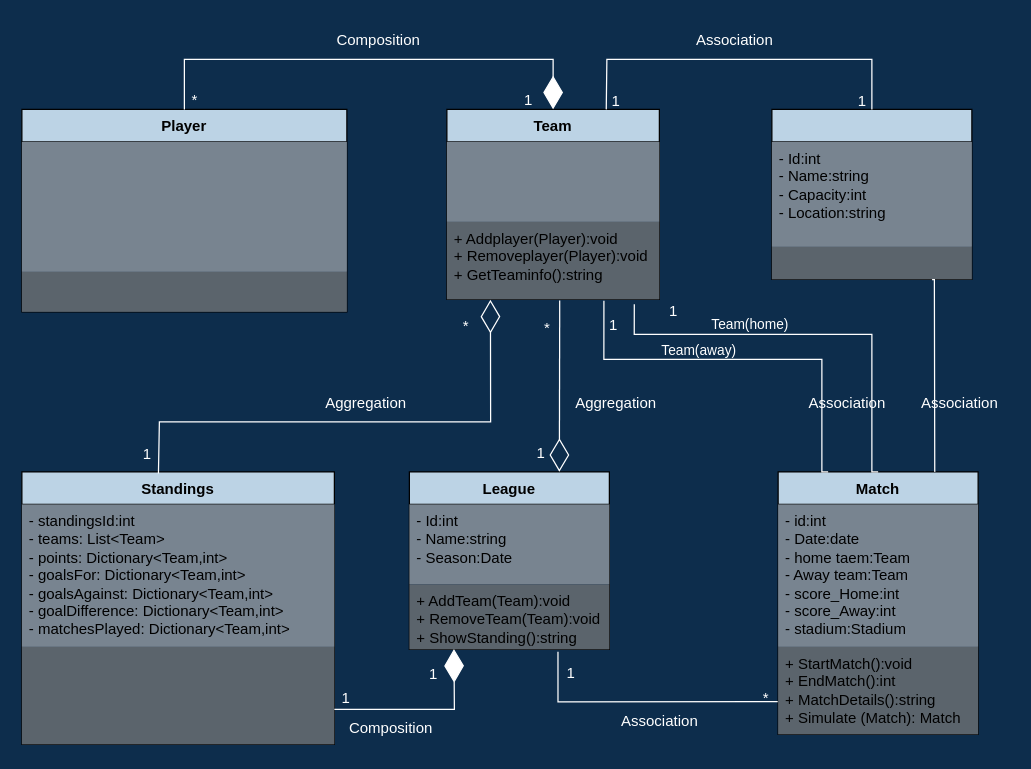
This 1031x769 diagram has some shape labels left out. Here are the shapes that lost their labels. From the top down, the box of each, then its label:
(446, 141, 659, 221): - Id:int - name:string - coach:string
(771, 108, 972, 279): Staduim
(21, 141, 346, 271): - Id:int - name:string - age:int - position:string - number:int - teamId:int
(771, 246, 971, 279): + GetInfo():string
(21, 271, 346, 311): + GetInfo(): string
(21, 646, 334, 744): + updateTeamStats() + calculateRankings() + getStandings() + resetStandings()
